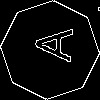A: (25, 25, 74, 63)
